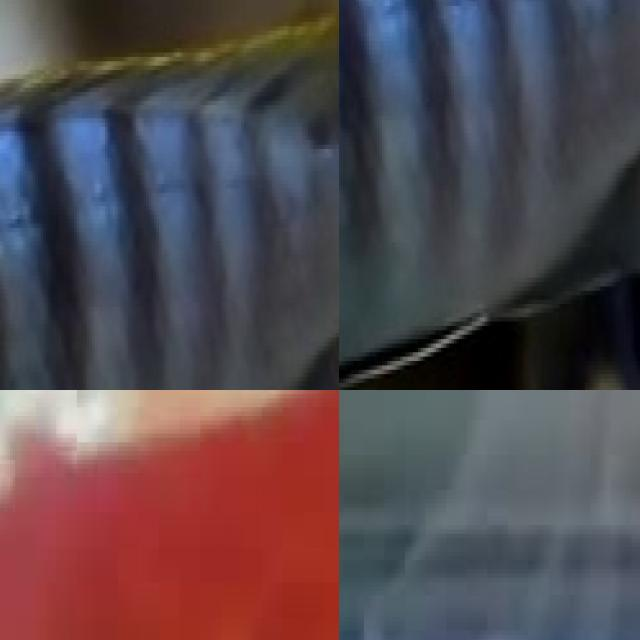fish: (0, 0, 339, 390), (339, 0, 640, 390), (0, 390, 339, 640)
